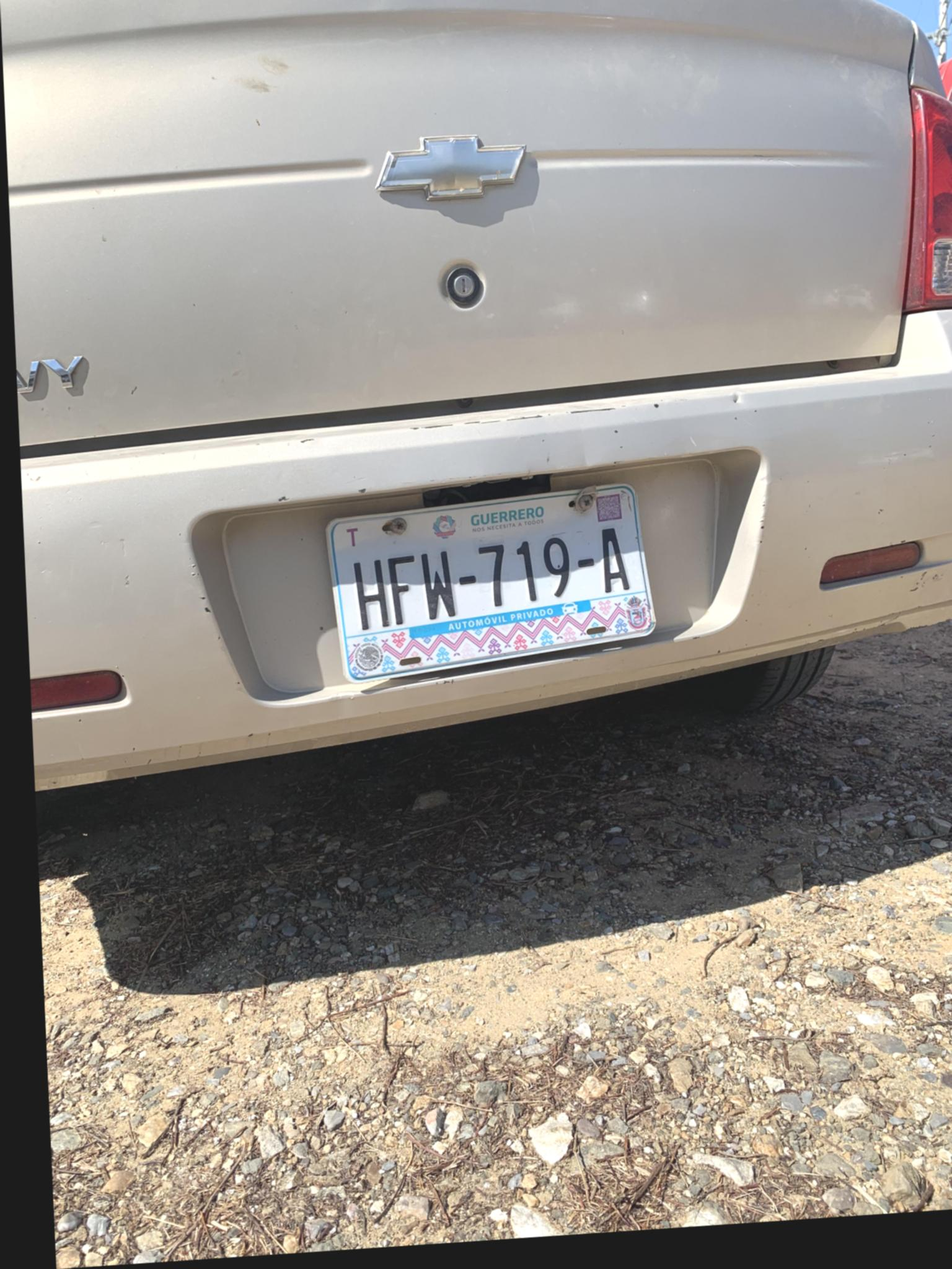License_Plate: (277, 475, 694, 710)
